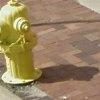Hydrant: (2, 2, 46, 87)
